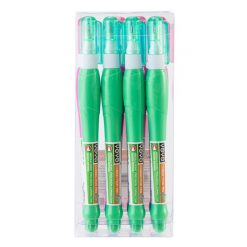Correction_fluid: (144, 13, 173, 232), (99, 14, 128, 233), (76, 14, 104, 234), (122, 13, 150, 232)
